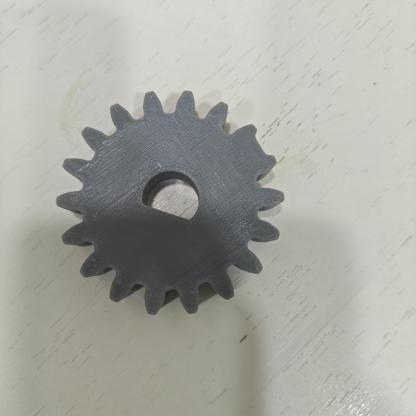defect: (127, 186, 197, 242), (238, 115, 275, 188)
gear: (56, 91, 284, 314)
